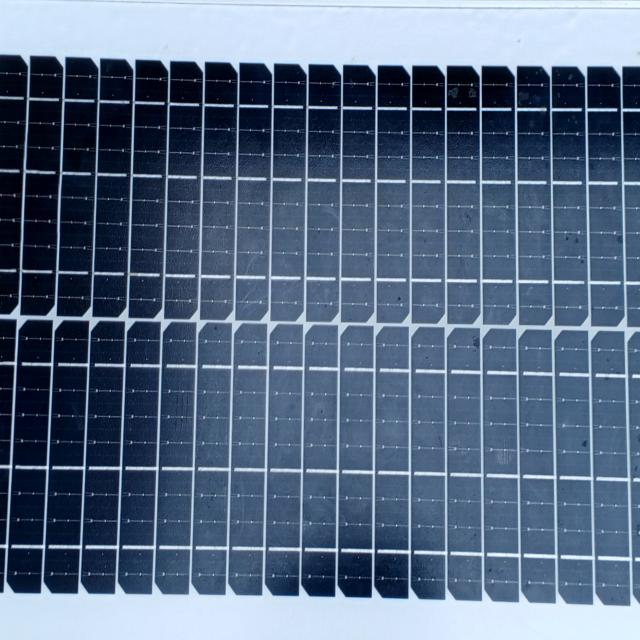Clean: (1, 6, 639, 632)
